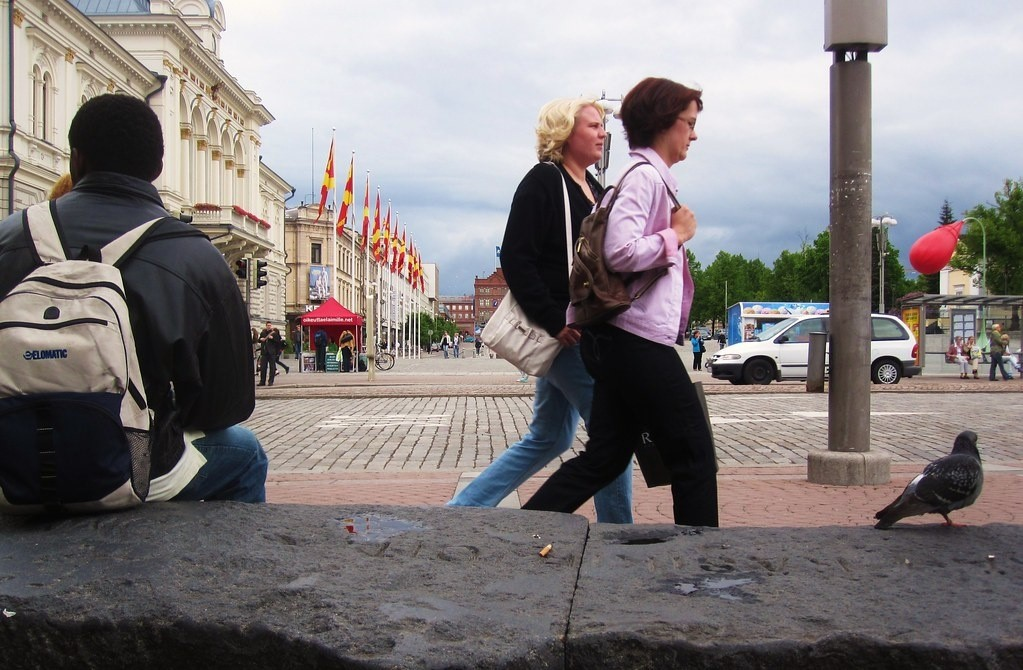face_no_mask: (536, 94, 607, 165)
